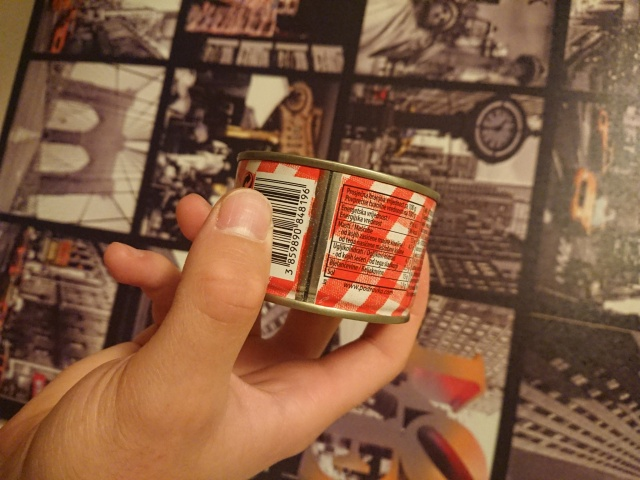Podravka Luncheon Meat 150g: (211, 147, 444, 328)
